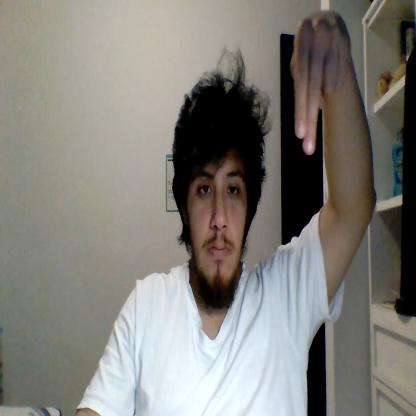N: (289, 10, 351, 154)
